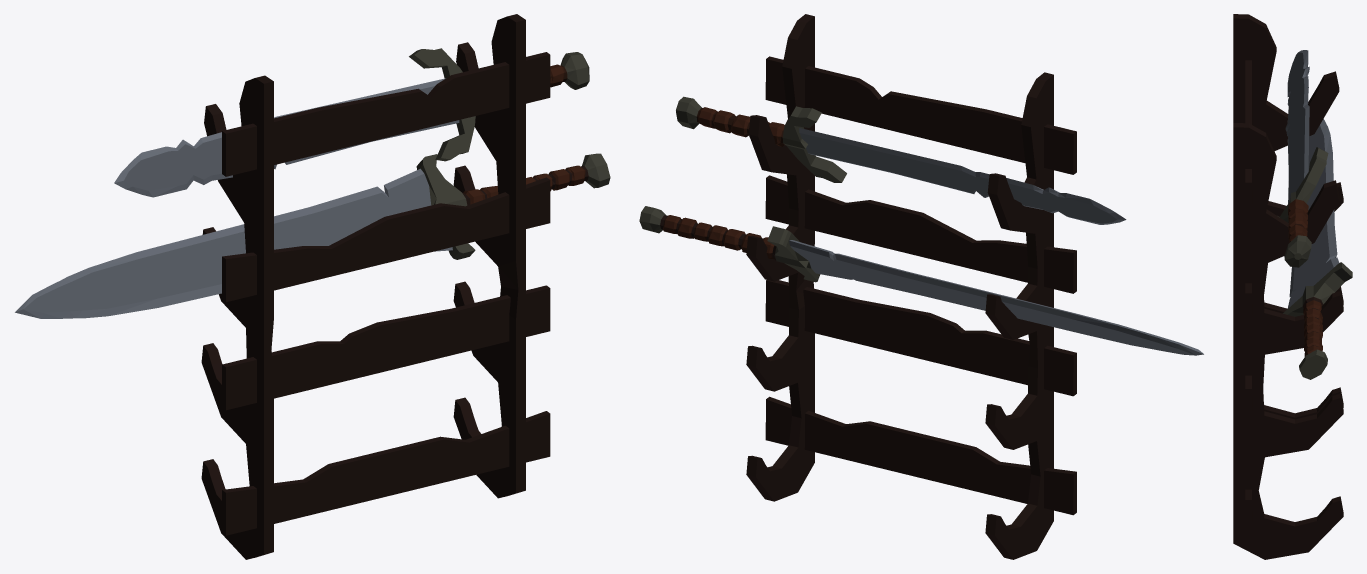
Rendered from Sword_WallMount.obj.
3 renders of one model, left to right at view 1: azimuth 30°, elevation 25°; view 2: azimuth 150°, elevation 25°; view 3: azimuth 270°, elevation 25°, orthographic. The views are drawn at different scales.
Visible parts, largest first — view 1: Sword_WallMount; view 2: Sword_WallMount; view 3: Sword_WallMount.
Boxes of the visible parts, box(x1,y1,x2,y2) form: Sword_WallMount: box(15, 14, 610, 559); Sword_WallMount: box(639, 14, 1203, 559); Sword_WallMount: box(1233, 14, 1352, 559).
Bounding box in the file's own units: 1.07 × 0.8471 × 0.2117.
